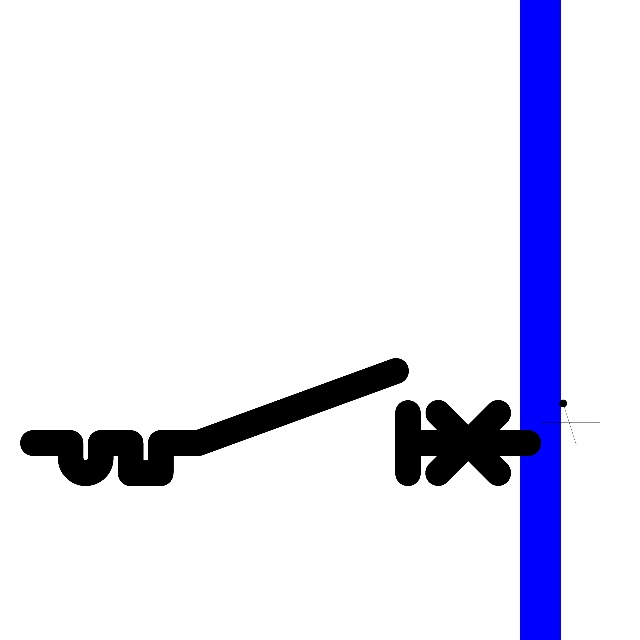interruptor_termomagnetico: (20, 358, 541, 486)
